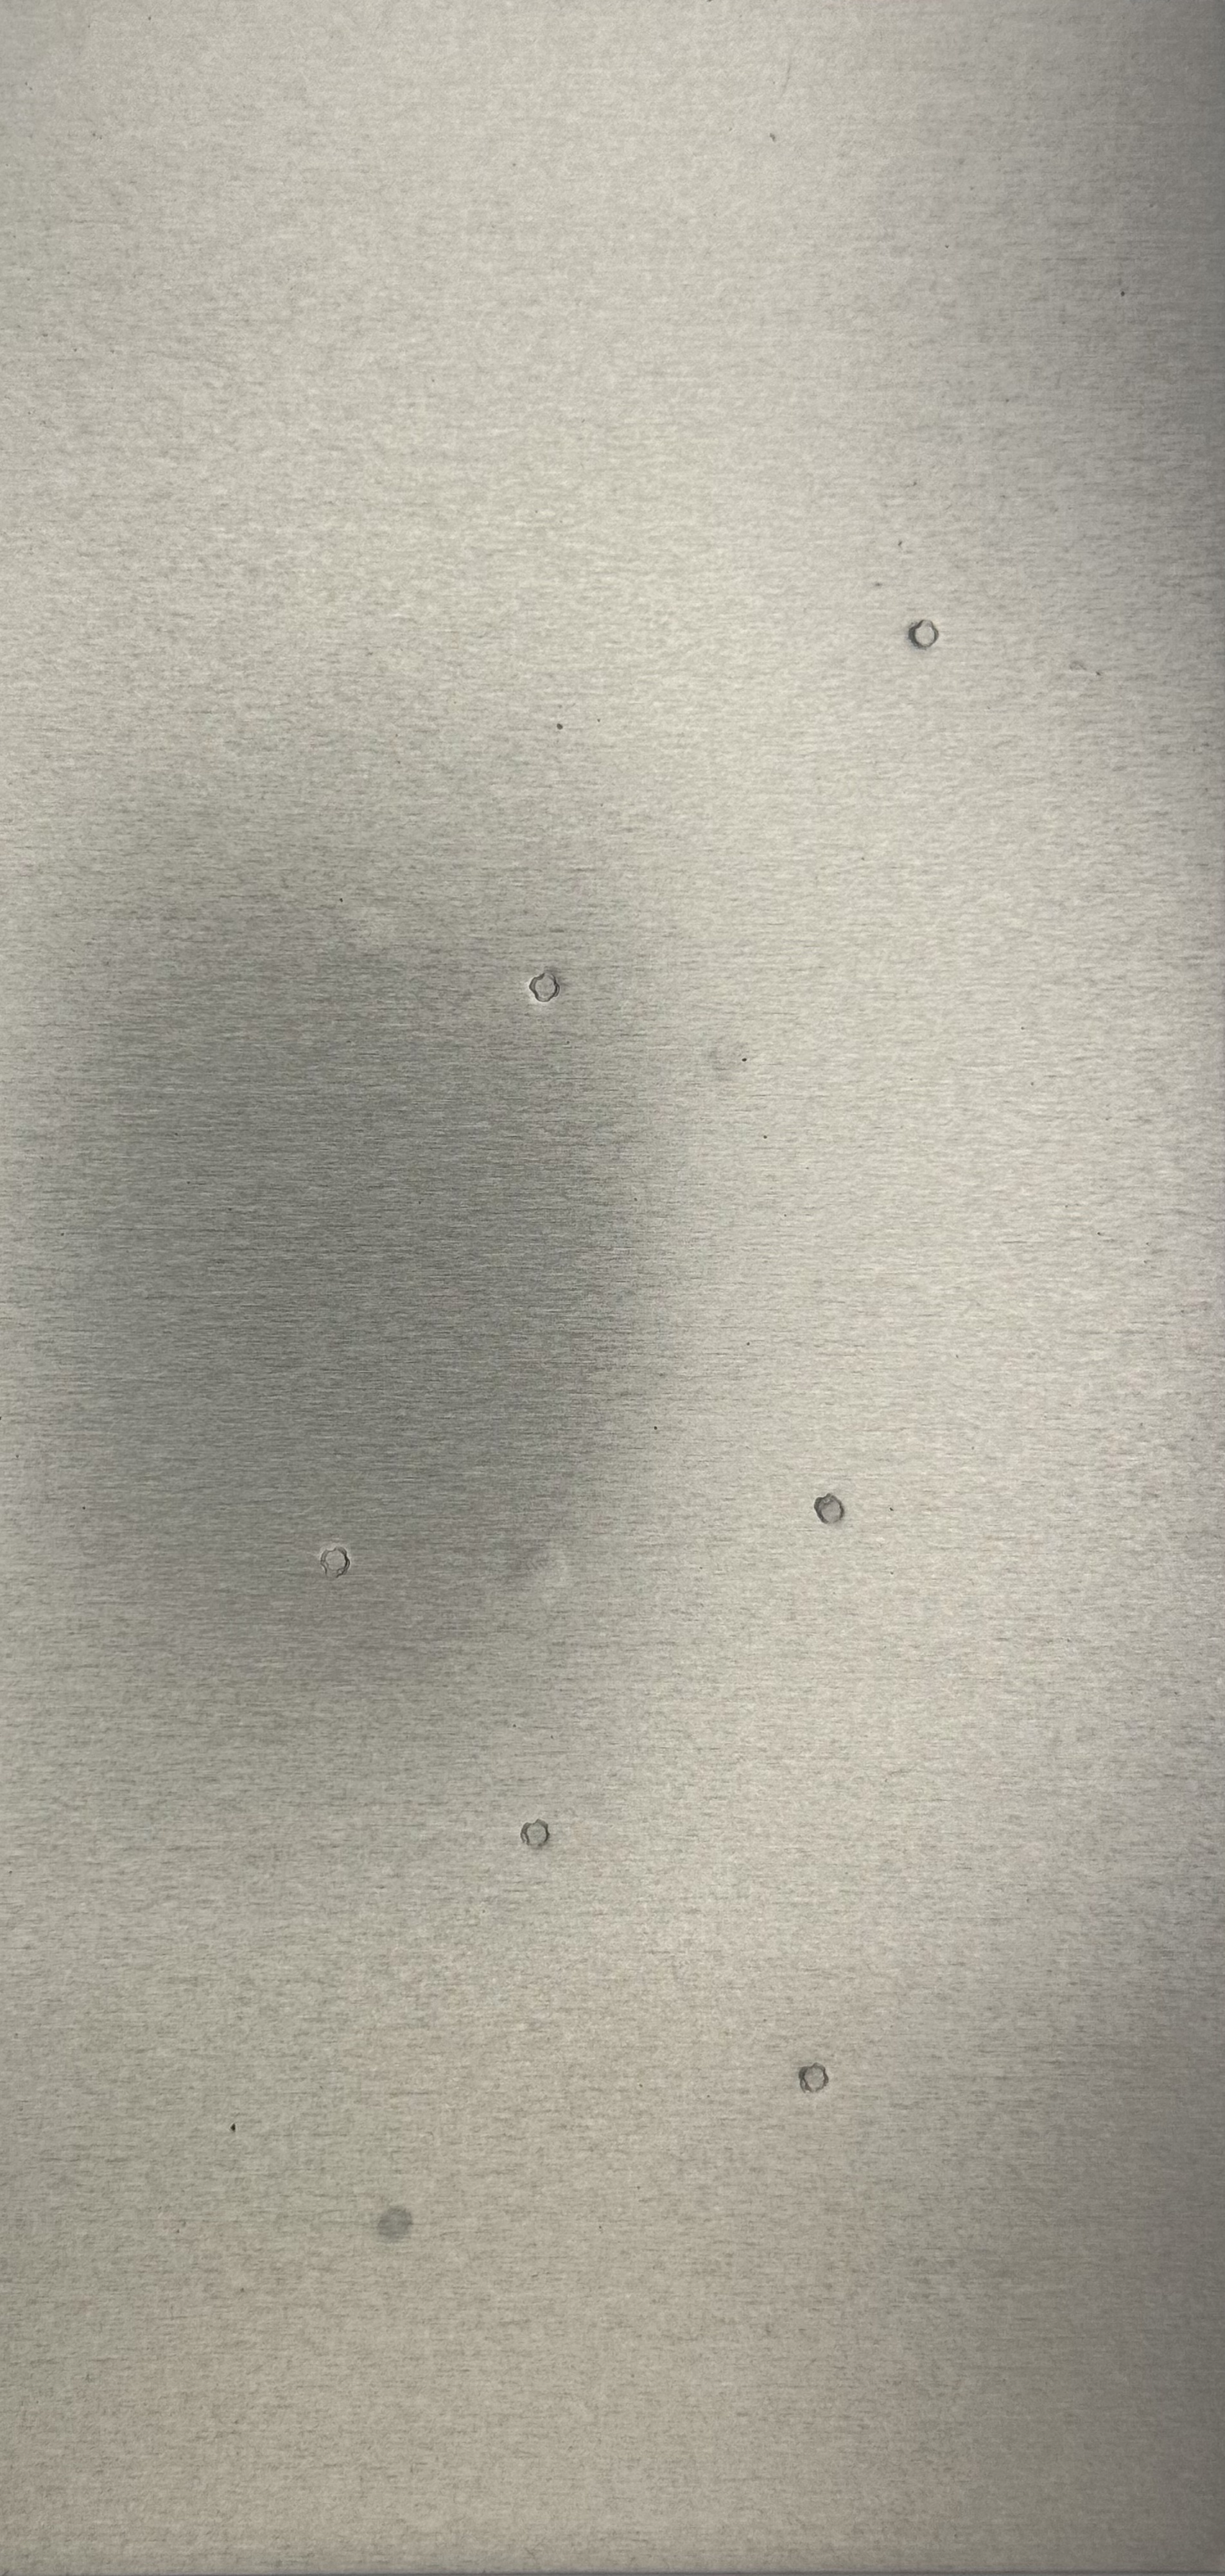Delle: (309, 879, 435, 982), (483, 1533, 593, 1630), (696, 1023, 768, 1096), (506, 953, 581, 1017), (356, 2190, 430, 2254), (305, 1531, 368, 1592), (796, 1479, 860, 1536), (895, 608, 954, 662), (791, 2057, 842, 2103), (512, 1809, 562, 1855)
